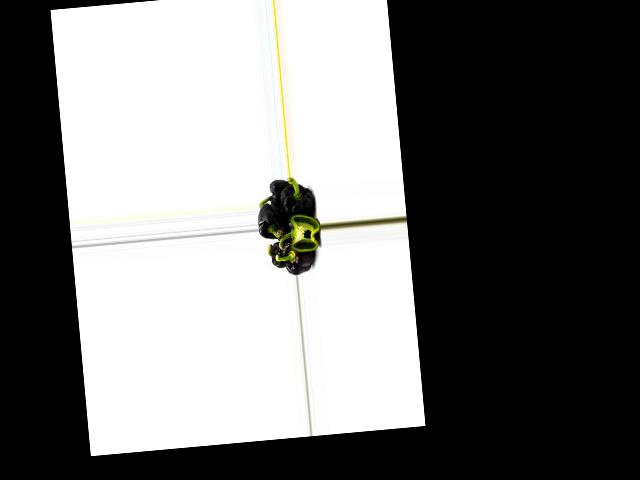bell_pepper: (280, 233, 314, 275)
